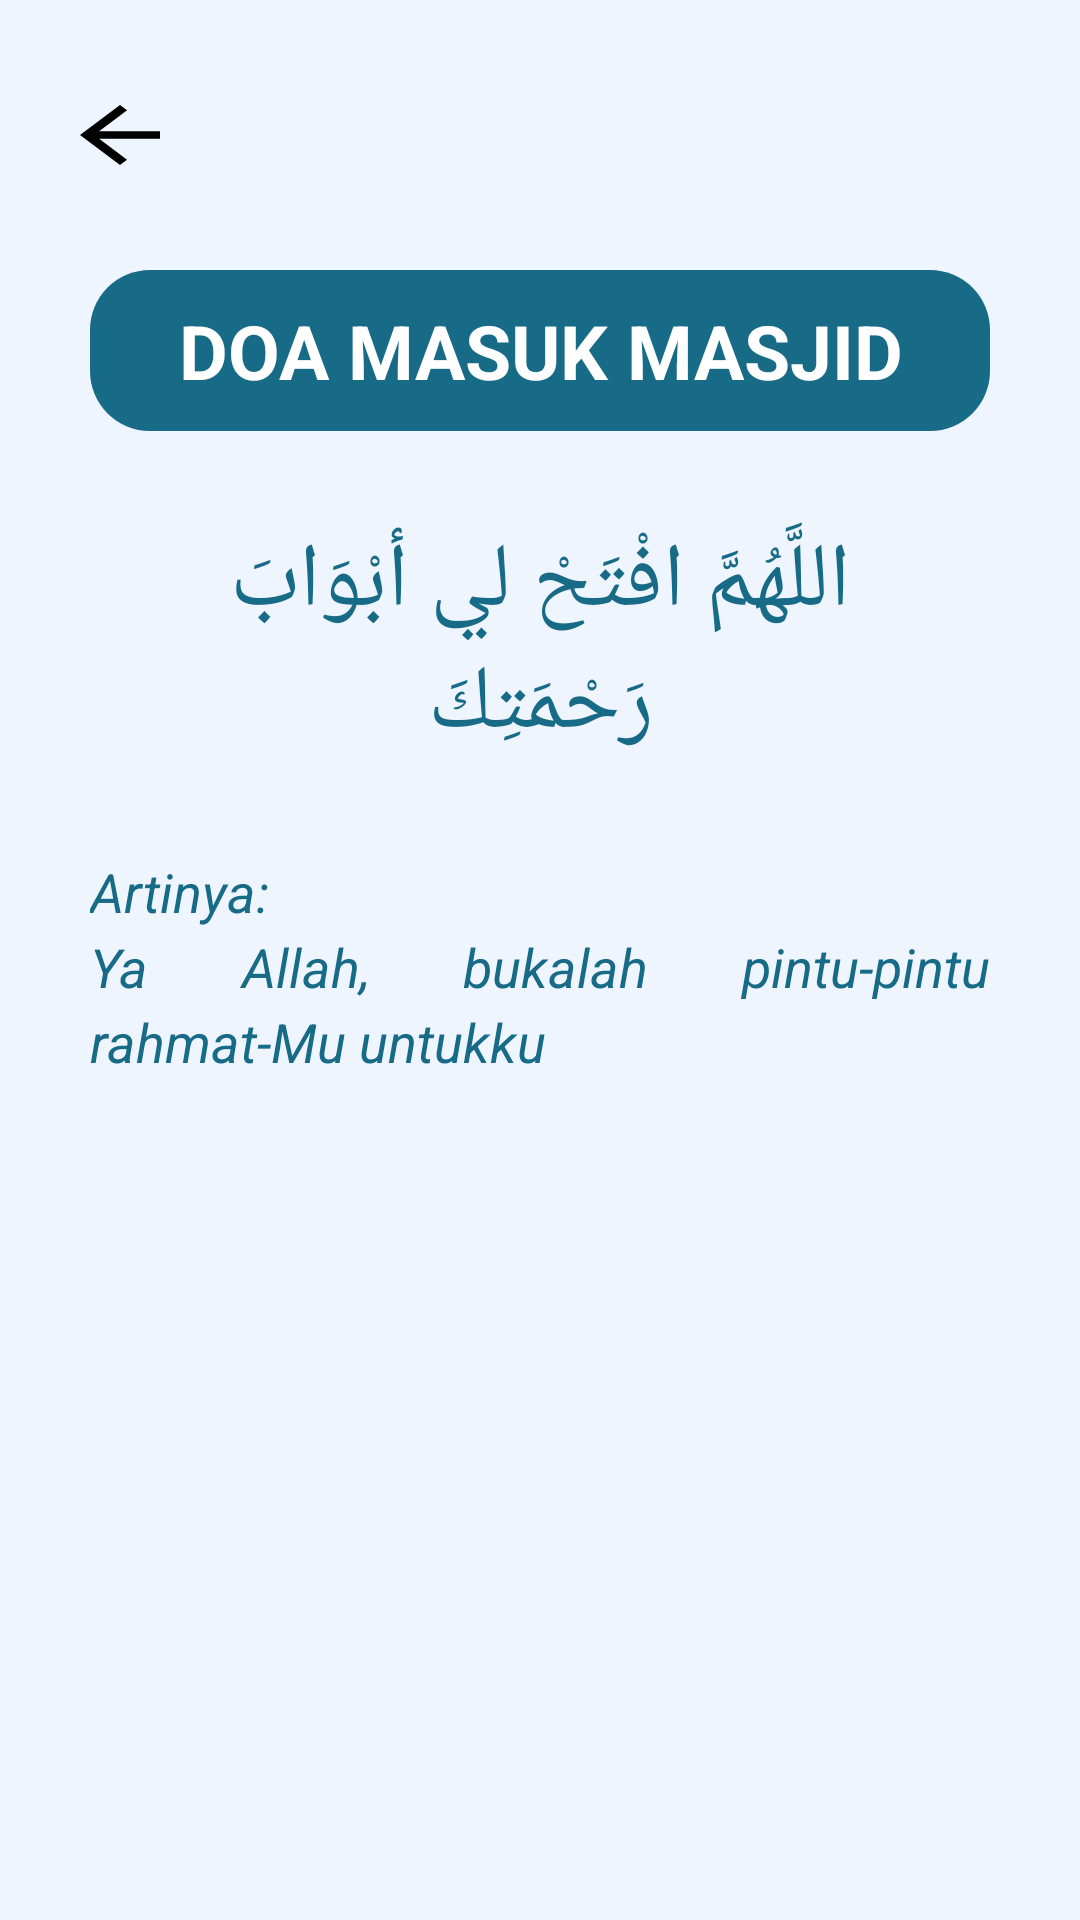

Named icons in this screenshot (1080 × 1920) and their centers, (x=x, y=y):
arrow back: (x=120, y=135)
